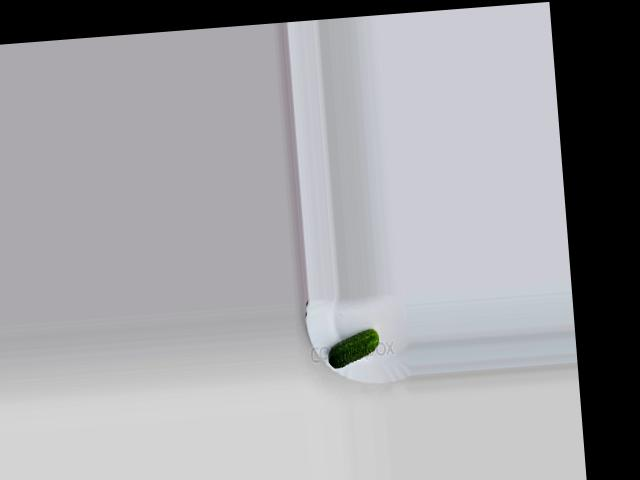cucumber: (327, 328, 381, 368)
